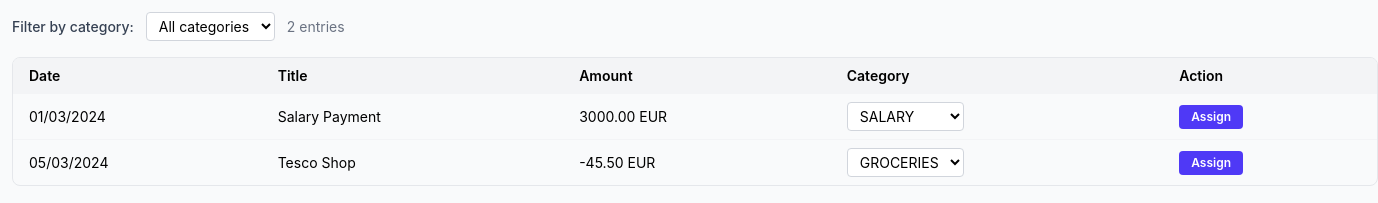
Test case: EntriesPage › category filter hides rows not matching selected category
expect the text "Salary Payment" is shown: met, box [262,94,563,140]
Note: Filter to SALARY only
Select "SALARY" in the dropdown next to "Filter by category:" at x=210, y=26, box [146,12,275,41]
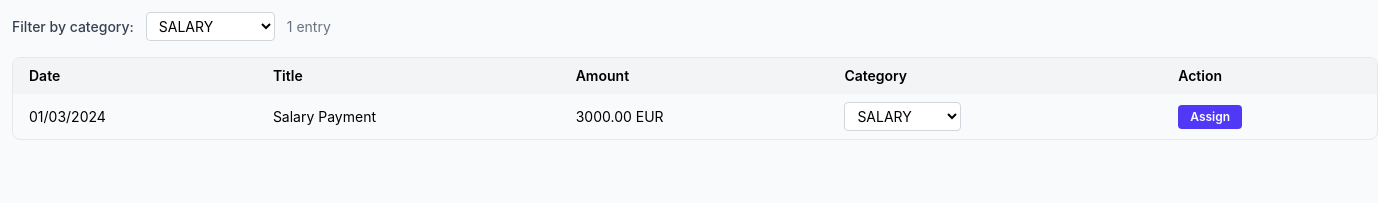
expect the text "Salary Payment" is shown: met, box [257,94,560,139]
expect the text "Tesco Shop" is gone: met
